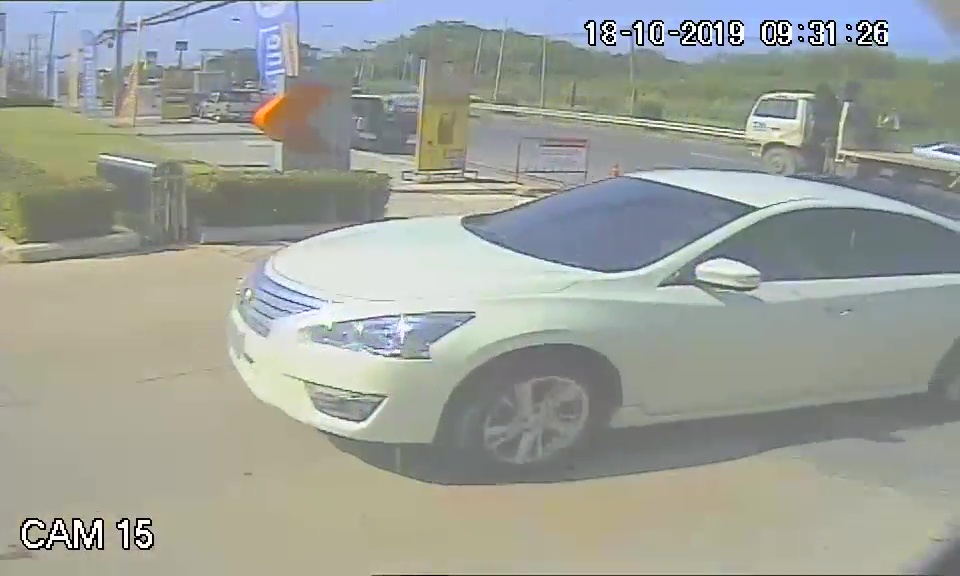sedan: (226, 168, 960, 460)
